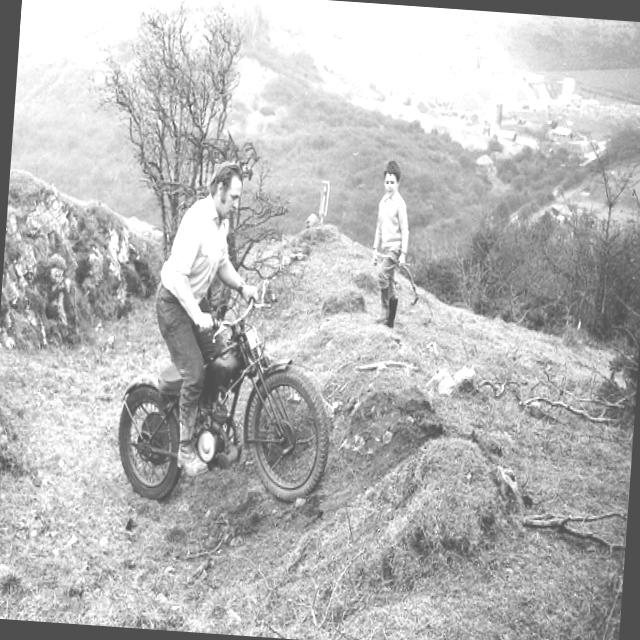Vehicle: (111, 288, 336, 515)
